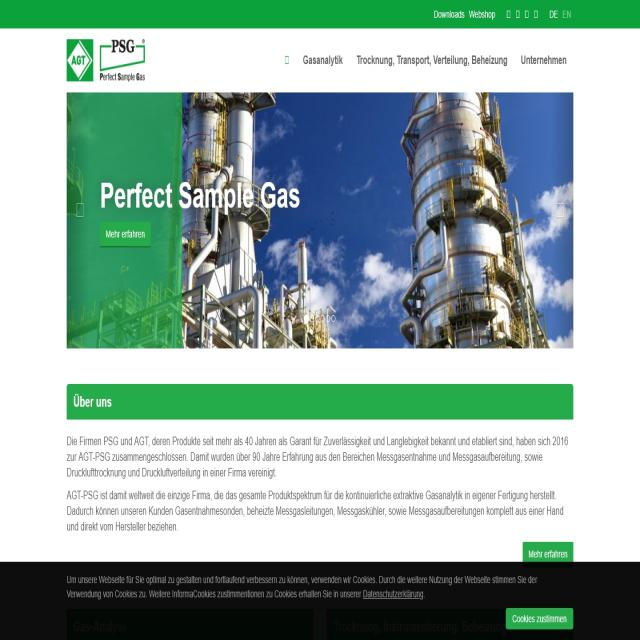button: (507, 607, 573, 630), (518, 48, 568, 74), (100, 222, 151, 247), (352, 47, 395, 76), (299, 49, 346, 74), (523, 541, 574, 561), (432, 46, 468, 74), (396, 46, 430, 74), (471, 48, 508, 70), (430, 5, 464, 24), (468, 6, 498, 25)
heading: (100, 179, 301, 213), (69, 388, 115, 412)
iframe: (0, 561, 640, 640)
image: (66, 91, 574, 351), (65, 33, 153, 85)
text: (62, 434, 570, 482), (65, 486, 570, 532)
